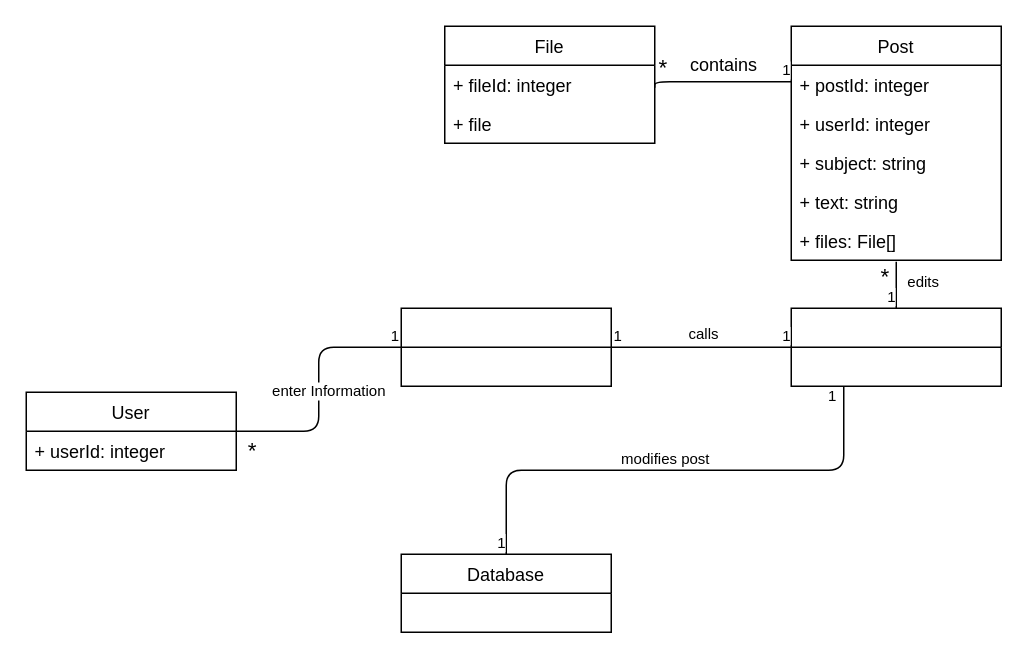
Image size: 1028x659. Some labels were removed from this diagram. Each missing label, with the box of its shape:
API: (790, 307, 1001, 386)
UI: (400, 307, 611, 386)
